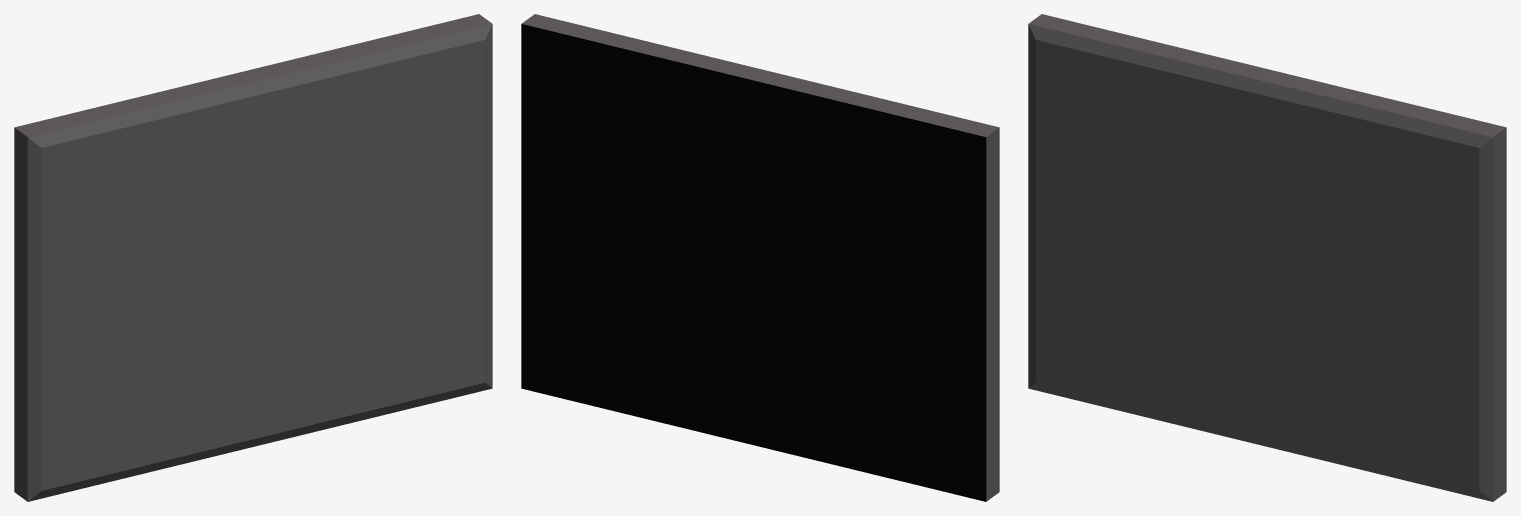
File: scifi-wall-outside.glb
3 views of the same model, side by side, from view 1: azimuth 30°, elevation 25°; view 2: azimuth 150°, elevation 25°; view 3: azimuth 330°, elevation 25° (orthographic).
Parts seen in each view (by area): view 1: scifi-wall-outside; view 2: scifi-wall-outside; view 3: scifi-wall-outside.
Boxes of the visible parts, left/top/right/bottom form: scifi-wall-outside: left=14, top=14, right=492, bottom=501; scifi-wall-outside: left=521, top=14, right=999, bottom=501; scifi-wall-outside: left=1028, top=14, right=1506, bottom=501.
Size of the model in its own units: 4 by 3 by 0.25.
1 material, 1 textured.
